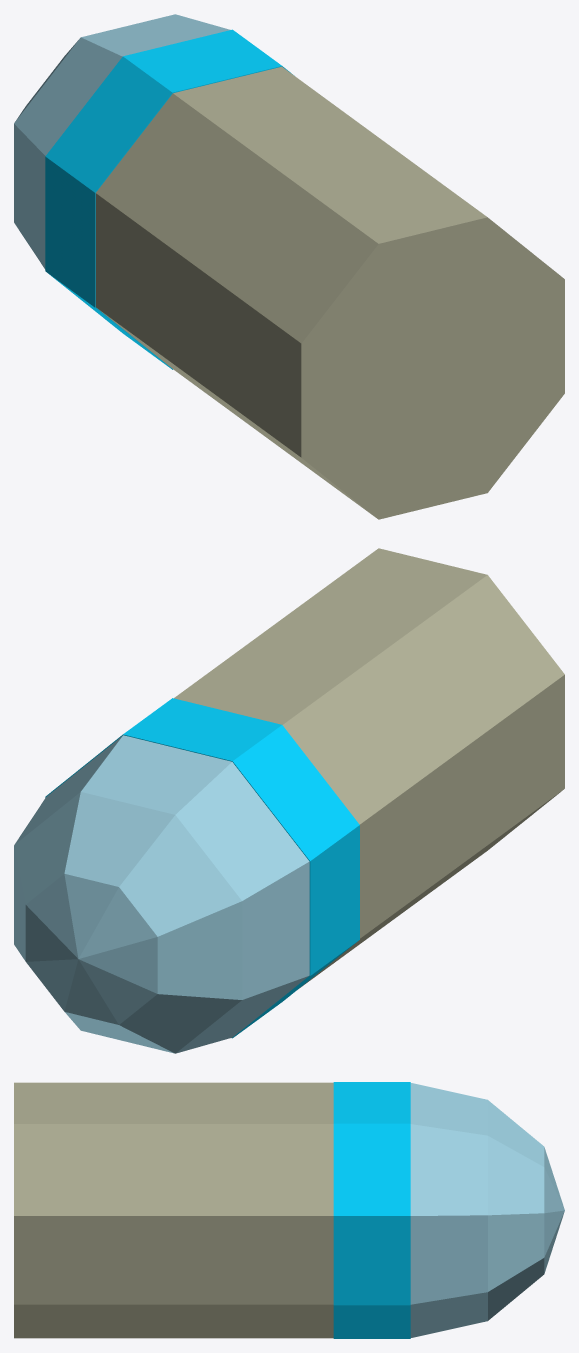
Rendered from ce_ammo_grenade_emp_a.obj.
3 renders of one model, top to bottom at view 1: azimuth 30°, elevation 25°; view 2: azimuth 150°, elevation 25°; view 3: azimuth 270°, elevation 25°, orthographic. The views are drawn at different scales.
Parts seen in each view (by area): view 1: ce_ammo_grenade_emp_a_0, ce_ammo_grenade_emp_a_1, ce_ammo_grenade_emp_a_2; view 2: ce_ammo_grenade_emp_a_0, ce_ammo_grenade_emp_a_3, ce_ammo_grenade_emp_a_2, ce_ammo_grenade_emp_a_1, ce_ammo_grenade_emp_a_4; view 3: ce_ammo_grenade_emp_a_0, ce_ammo_grenade_emp_a_1, ce_ammo_grenade_emp_a_2, ce_ammo_grenade_emp_a_3, ce_ammo_grenade_emp_a_4.
Part boxes in pixels (left/top/right/bottom): ce_ammo_grenade_emp_a_0: left=95, top=66, right=564, bottom=519; ce_ammo_grenade_emp_a_1: left=45, top=29, right=294, bottom=369; ce_ammo_grenade_emp_a_2: left=14, top=14, right=230, bottom=269; ce_ammo_grenade_emp_a_0: left=174, top=548, right=564, bottom=987; ce_ammo_grenade_emp_a_3: left=14, top=792, right=242, bottom=1053; ce_ammo_grenade_emp_a_2: left=14, top=735, right=309, bottom=1053; ce_ammo_grenade_emp_a_1: left=45, top=698, right=359, bottom=1038; ce_ammo_grenade_emp_a_4: left=25, top=873, right=157, bottom=1024; ce_ammo_grenade_emp_a_0: left=14, top=1082, right=333, bottom=1338; ce_ammo_grenade_emp_a_1: left=333, top=1082, right=410, bottom=1338; ce_ammo_grenade_emp_a_2: left=410, top=1083, right=487, bottom=1337; ce_ammo_grenade_emp_a_3: left=488, top=1100, right=544, bottom=1320; ce_ammo_grenade_emp_a_4: left=544, top=1147, right=564, bottom=1273.
Size of the model in its own units: 0.2414 by 0.2414 by 0.56.
